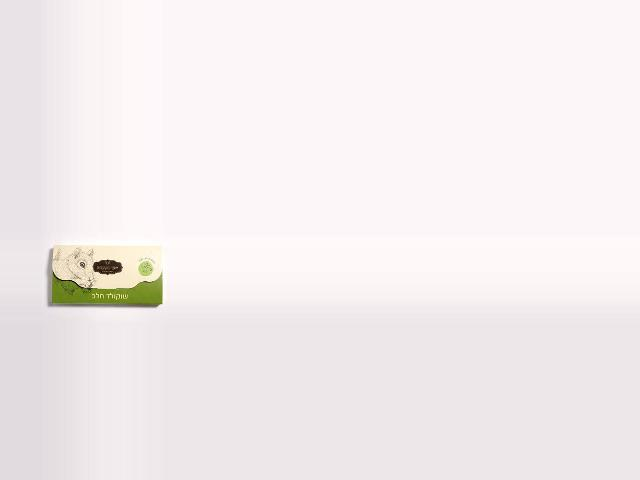chocolate: (50, 243, 163, 306)
